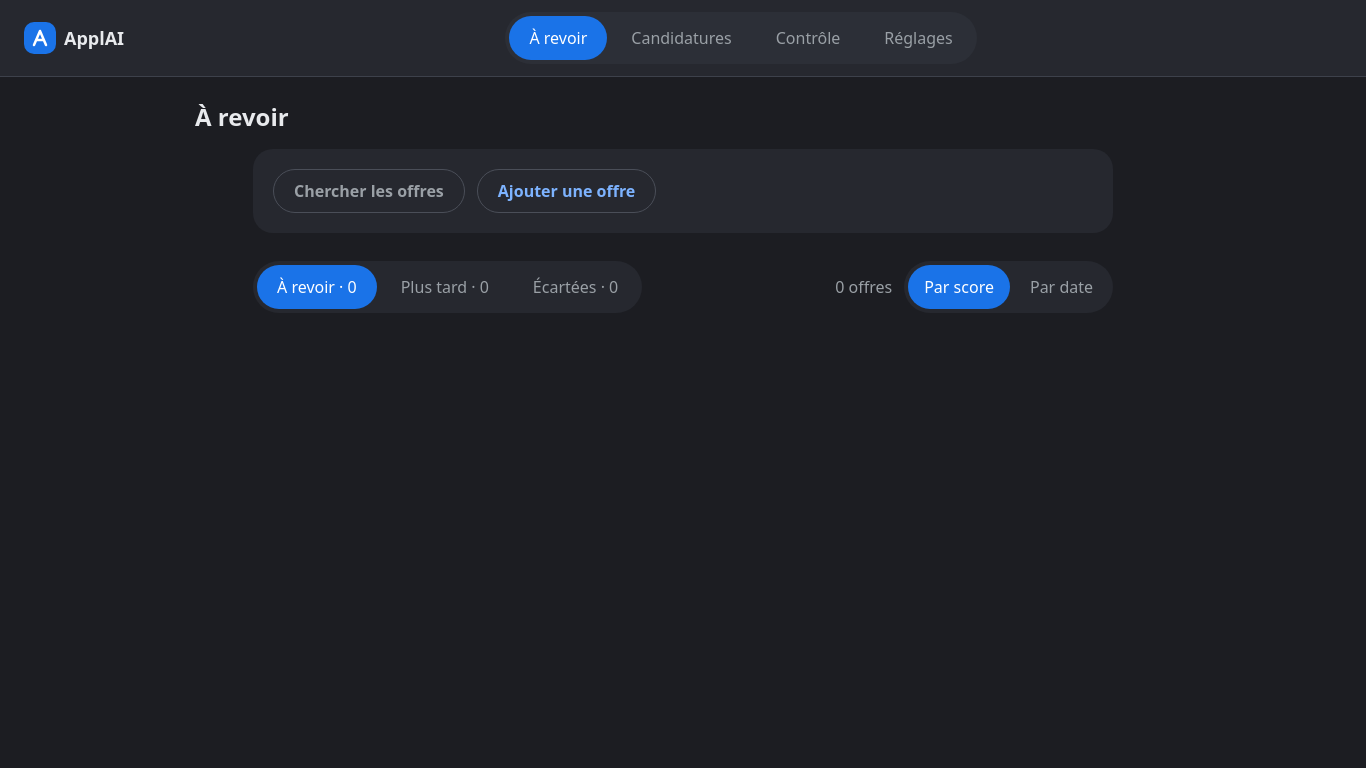
Test case: FinalValidationScreen › shows no eye button for a file field with no slot
Click the button "Candidatures" at (682, 38), box [611,16,752,60]
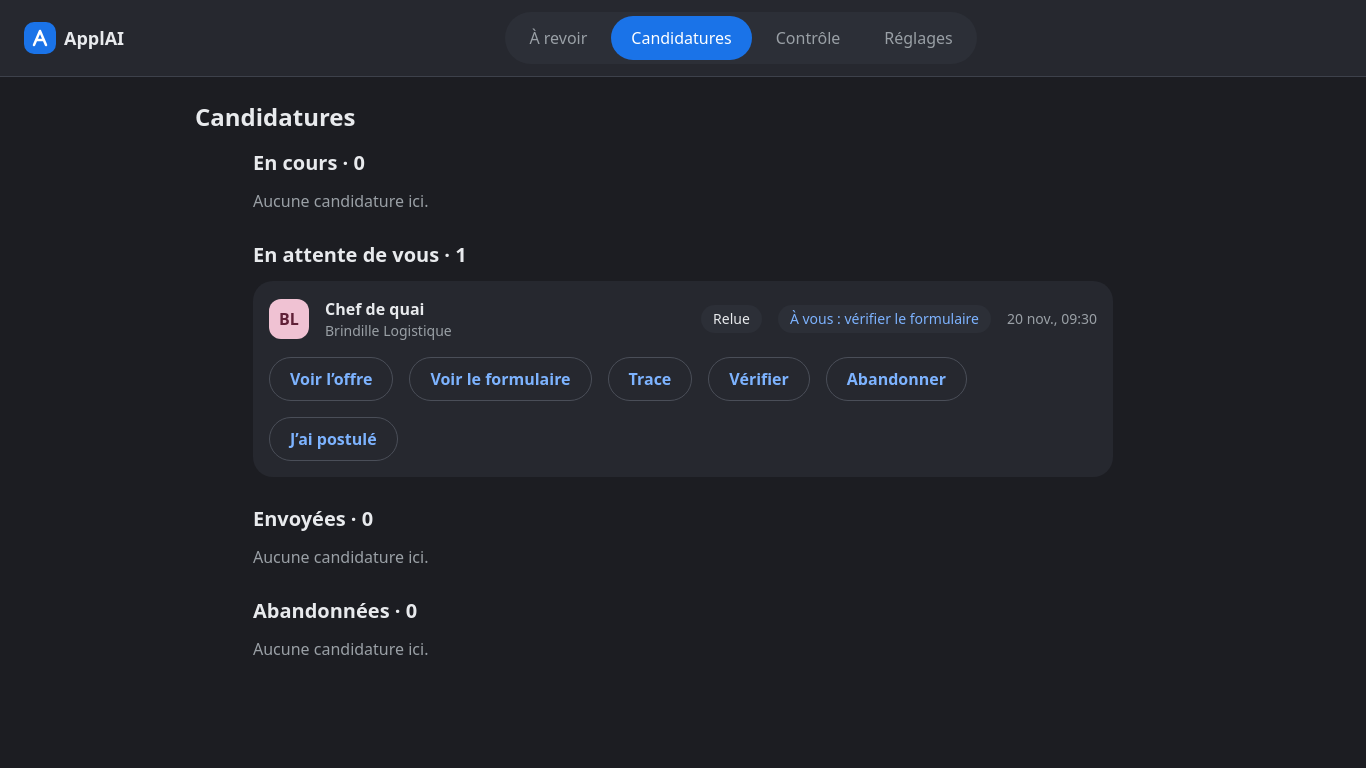
Click the button "Vérifier" at (759, 379), box [708,357,810,401]
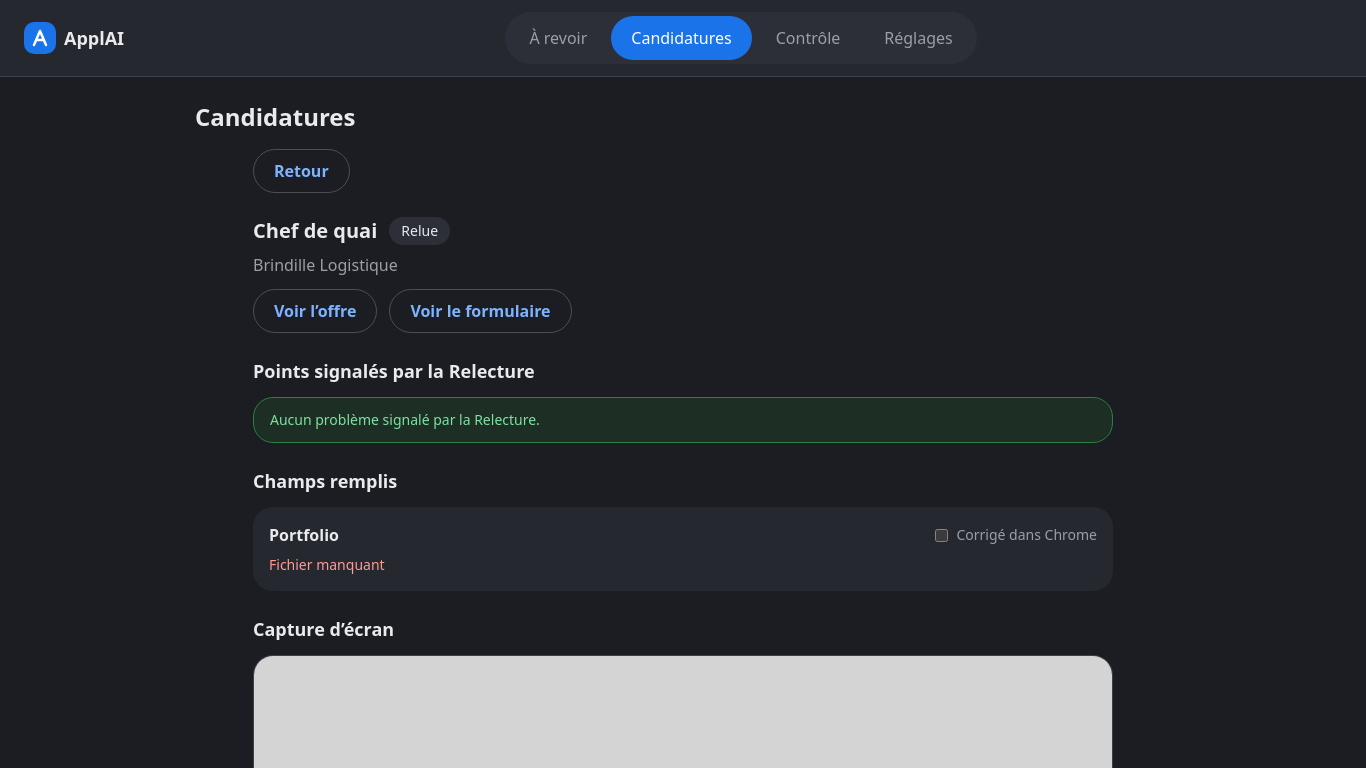
Now the heading "Chef de quai" is shown, box [253,217,377,245]
Now the text "Fichier manquant" is shown, box [269,555,385,575]
